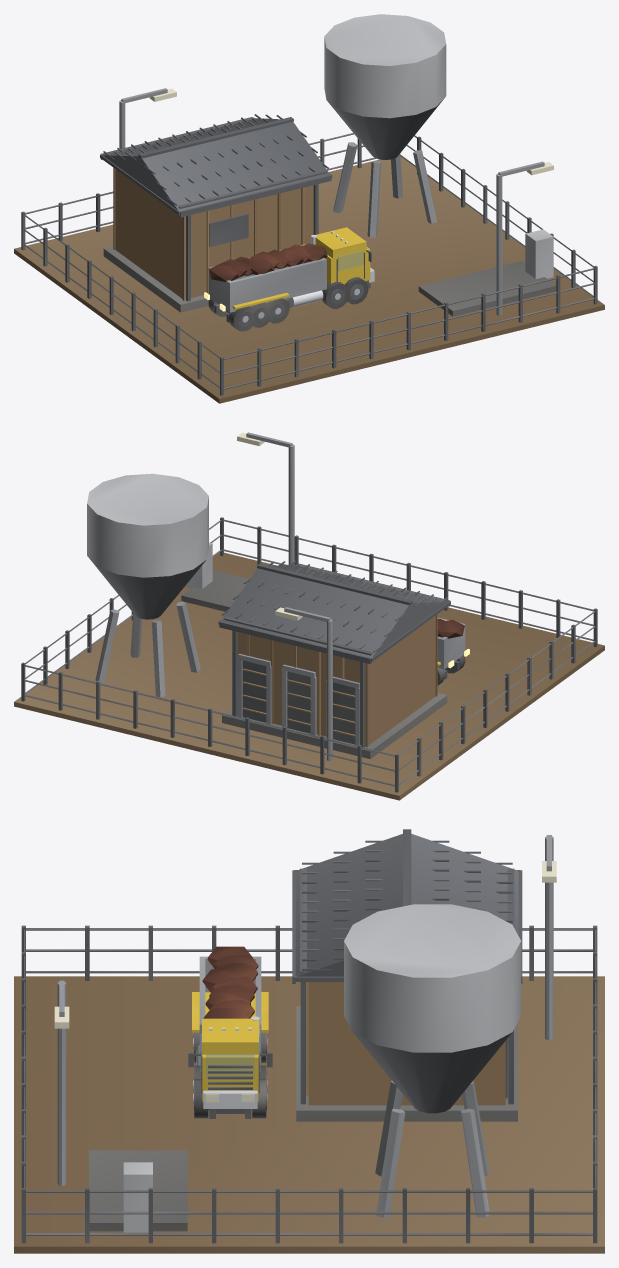
File: Haul_P1.fbx
3 views of the same model, one above another, from view 1: azimuth 30°, elevation 25°; view 2: azimuth 150°, elevation 25°; view 3: azimuth 270°, elevation 25° (orthographic). The views are drawn at different scales.
Visible parts, largest first — view 1: Haul.Yard, Haul.Workshop, Haul.Hopper, Haul.Parked0, Haul.Fence, Haul.Weighbridge, Haul.Lamp0, Haul.Lamp1; view 2: Haul.Yard, Haul.Workshop, Haul.Hopper, Haul.Fence, Haul.Weighbridge, Haul.Parked0, Haul.Lamp1, Haul.Lamp0; view 3: Haul.Yard, Haul.Hopper, Haul.Workshop, Haul.Fence, Haul.Parked0, Haul.Weighbridge, Haul.Lamp0, Haul.Lamp1.
Part boxes in pixels (box(x1,y1,x2,y2)): Haul.Yard: box(14, 156, 604, 403); Haul.Workshop: box(100, 114, 332, 312); Haul.Hopper: box(324, 14, 446, 237); Haul.Parked0: box(204, 227, 374, 331); Haul.Fence: box(21, 133, 597, 395); Haul.Weighbridge: box(418, 229, 556, 316); Haul.Lamp0: box(496, 161, 553, 315); Haul.Lamp1: box(119, 88, 176, 148); Haul.Yard: box(14, 552, 604, 800); Haul.Workshop: box(218, 560, 450, 758); Haul.Hopper: box(87, 473, 208, 697); Haul.Fence: box(21, 517, 597, 792); Haul.Weighbridge: box(181, 542, 249, 611); Haul.Parked0: box(437, 617, 469, 685); Haul.Lamp1: box(275, 607, 332, 761); Haul.Lamp0: box(237, 432, 294, 564); Haul.Yard: box(14, 976, 604, 1253); Haul.Hopper: box(344, 904, 521, 1217); Haul.Workshop: box(292, 829, 522, 1121); Haul.Fence: box(21, 925, 597, 1243); Haul.Parked0: box(188, 946, 272, 1118); Haul.Weighbridge: box(89, 1150, 187, 1232); Haul.Lamp0: box(54, 980, 69, 1185); Haul.Lamp1: box(542, 835, 556, 1040).
Size of the model in its own units: 2600 by 1167 by 2400.
